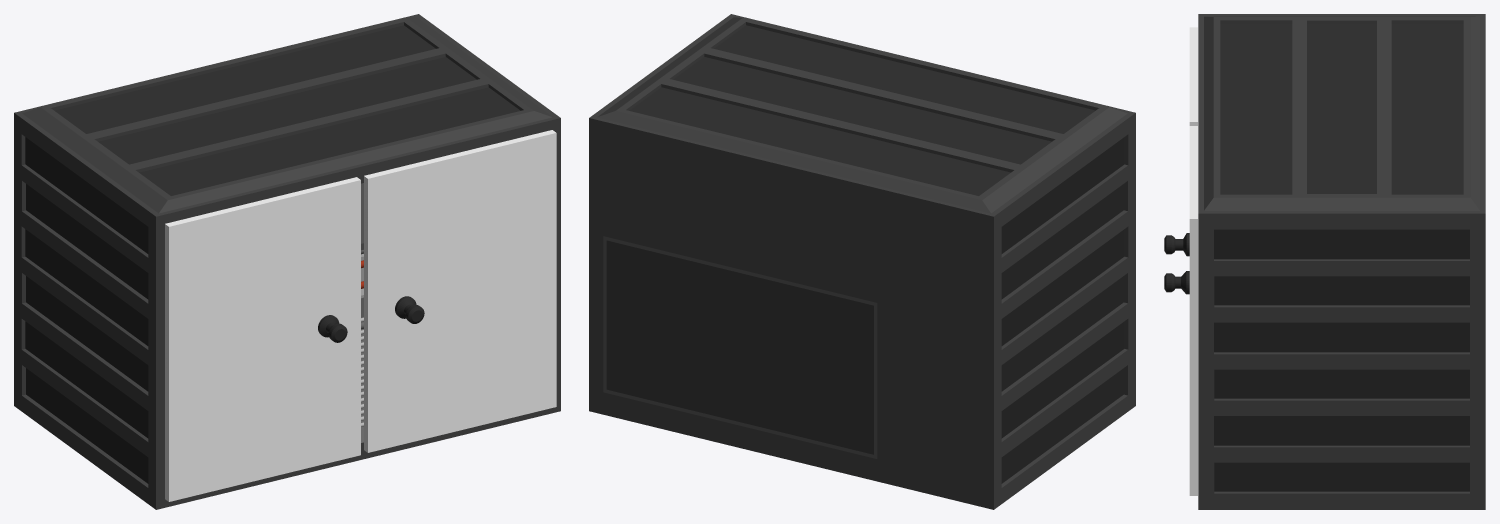
File: Rotisserie #1.fbx
The picture shows the model from 3 angles, left to right: view 1: azimuth 30°, elevation 25°; view 2: azimuth 150°, elevation 25°; view 3: azimuth 270°, elevation 25°; orthographic projection.
Visible parts, largest first — view 1: Rotisserie #1; view 2: Rotisserie #1; view 3: Rotisserie #1.
Part boxes in pixels (bbox=[...]): Rotisserie #1: bbox=[14, 14, 560, 509]; Rotisserie #1: bbox=[589, 14, 1135, 509]; Rotisserie #1: bbox=[1164, 14, 1485, 509].
Bounding box in the file's own units: 102 × 72.37 × 69.61.
2 materials, 1 textured.
